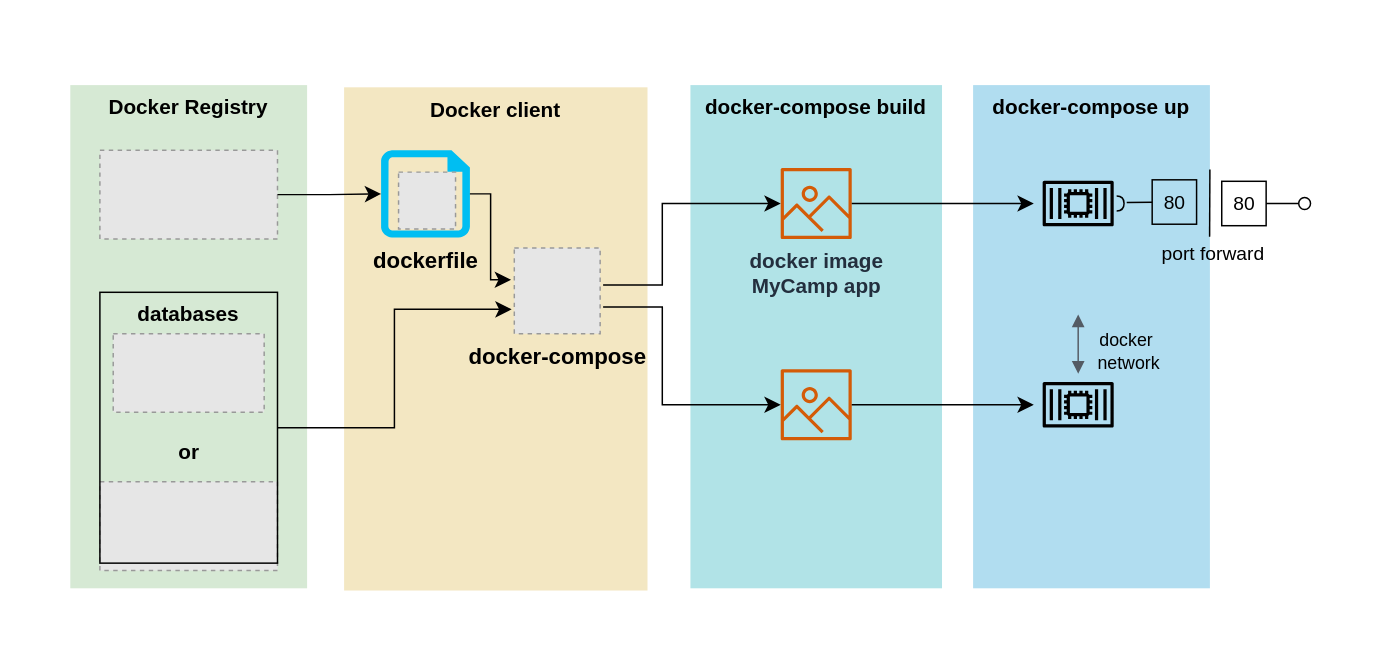
This 1382x672 diagram has some shape labels left out. Grey dashed boxes stand in for pictures. Here are the shapes that lost their labels. From the top down, the centre of each, then its label:
At [1077,203]: "container MyCamp app".
At [815,404]: "docker image database".
At [1077,404]: "container database".
